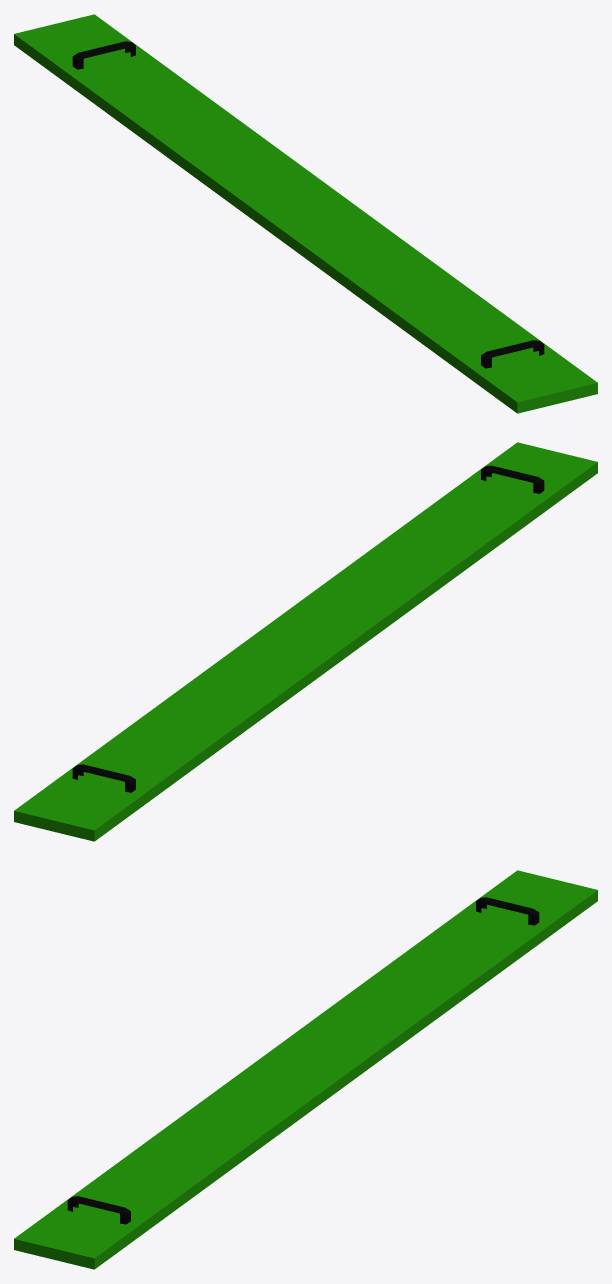
Rendered from SeesawBoard_KW.fbx.
3 views of the same model, one above another, from view 1: azimuth 30°, elevation 25°; view 2: azimuth 150°, elevation 25°; view 3: azimuth 330°, elevation 25° (orthographic).
Parts seen in each view (by area): view 1: SeesawBoard_KW; view 2: SeesawBoard_KW; view 3: SeesawBoard_KW.
Boxes of the visible parts, x1,y1,x2,y2 form: SeesawBoard_KW: (14,14,597,413); SeesawBoard_KW: (14,442,597,841); SeesawBoard_KW: (14,870,597,1269).
Bounding box in the file's own units: 60.54 × 16.8 × 656.
